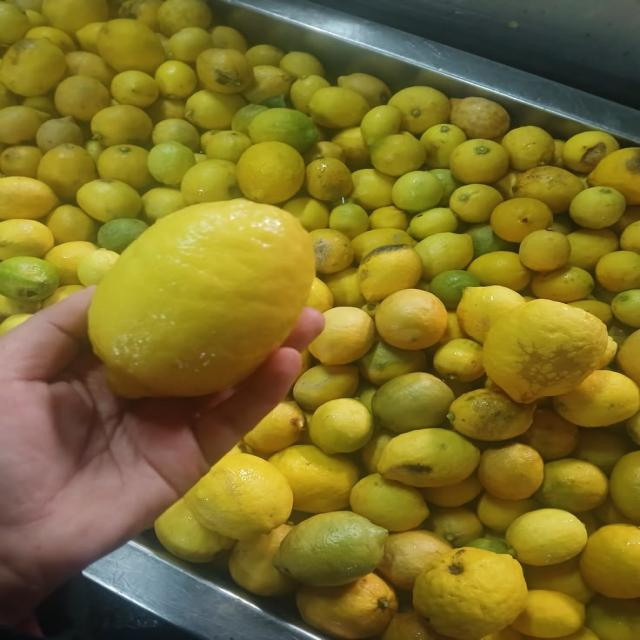lemon: (89, 199, 313, 396), (484, 300, 607, 402), (414, 548, 526, 639), (185, 454, 293, 539), (274, 511, 388, 586), (296, 573, 398, 638), (269, 444, 359, 513), (378, 428, 479, 486), (154, 498, 233, 563), (228, 524, 297, 596), (372, 372, 453, 433), (554, 370, 639, 427), (506, 508, 587, 565), (448, 388, 535, 441), (350, 473, 429, 531), (377, 529, 452, 590), (580, 524, 639, 598), (236, 141, 305, 204), (375, 289, 446, 349), (535, 458, 608, 514), (456, 286, 525, 343), (0, 38, 66, 97), (96, 19, 166, 74), (478, 443, 544, 500), (358, 244, 422, 302), (308, 398, 373, 454), (37, 143, 98, 201), (243, 401, 306, 456), (513, 589, 584, 637), (514, 166, 585, 213), (524, 557, 593, 604), (520, 407, 579, 461), (105, 186, 187, 224), (248, 108, 318, 152), (358, 340, 426, 385), (388, 86, 450, 135), (588, 147, 639, 204), (76, 179, 142, 222), (414, 233, 473, 281), (572, 428, 631, 476), (490, 198, 553, 242), (180, 159, 241, 204), (96, 145, 154, 192), (450, 138, 509, 183), (90, 105, 153, 147), (0, 257, 59, 301), (0, 176, 59, 219), (467, 251, 532, 290), (450, 96, 510, 138), (308, 87, 369, 128), (477, 492, 538, 533), (185, 89, 246, 130), (370, 132, 426, 176), (562, 131, 619, 173), (41, 0, 109, 35), (530, 266, 594, 303), (569, 187, 626, 228), (586, 595, 639, 639), (501, 126, 554, 170), (45, 241, 98, 285), (389, 170, 443, 213), (427, 507, 484, 547), (567, 229, 619, 272), (519, 229, 571, 272), (0, 219, 54, 260), (242, 65, 293, 108), (147, 141, 195, 186), (449, 184, 504, 223), (352, 229, 415, 263), (610, 451, 639, 524), (305, 158, 353, 202), (44, 205, 99, 243), (421, 473, 482, 507), (420, 124, 466, 168), (429, 270, 480, 309), (309, 229, 353, 274), (350, 168, 395, 211), (66, 50, 116, 88), (157, 0, 211, 35), (110, 70, 159, 108), (337, 73, 391, 107), (465, 224, 517, 259), (595, 251, 639, 292), (97, 218, 148, 253), (407, 207, 459, 241), (360, 104, 401, 146), (36, 117, 83, 153), (289, 74, 330, 115), (324, 267, 366, 307), (167, 26, 212, 63), (282, 196, 329, 231), (154, 61, 197, 99), (152, 119, 200, 152), (77, 249, 119, 286), (205, 130, 252, 163), (328, 203, 369, 240), (381, 610, 433, 639), (360, 428, 394, 472), (0, 145, 42, 178), (0, 2, 30, 45), (279, 51, 325, 78), (610, 288, 640, 329), (430, 168, 462, 206), (570, 297, 613, 325), (617, 331, 639, 384), (0, 295, 42, 319), (307, 277, 333, 313), (42, 285, 84, 307), (304, 141, 346, 163), (246, 44, 284, 65), (466, 537, 510, 553), (0, 314, 33, 335), (620, 221, 639, 252)
